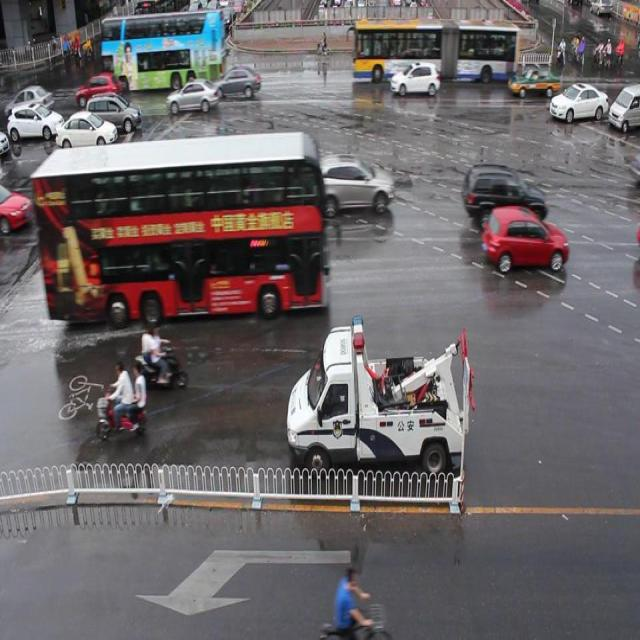car: (462, 163, 548, 230), (481, 204, 567, 270), (309, 152, 394, 211), (548, 80, 607, 121), (390, 61, 440, 98), (166, 78, 218, 113), (507, 63, 559, 98), (214, 64, 261, 98)
van: (37, 136, 318, 311), (352, 18, 520, 83)
